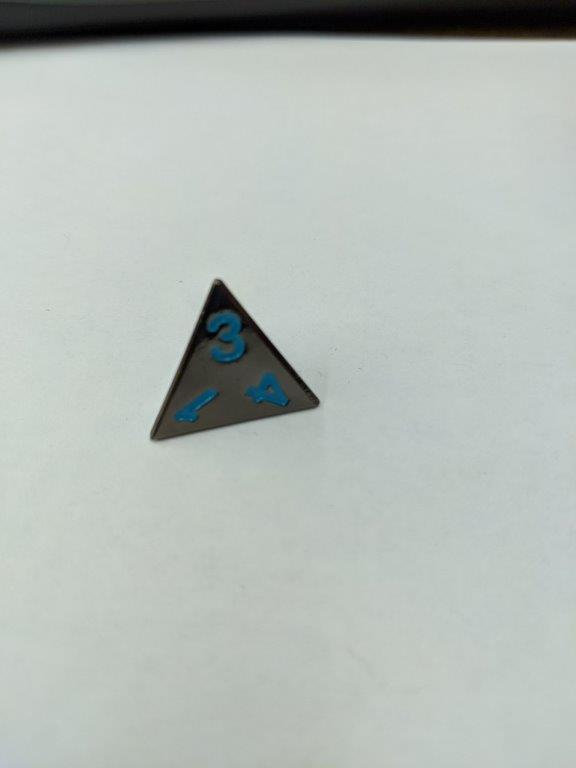d4-3: (148, 270, 327, 444)
